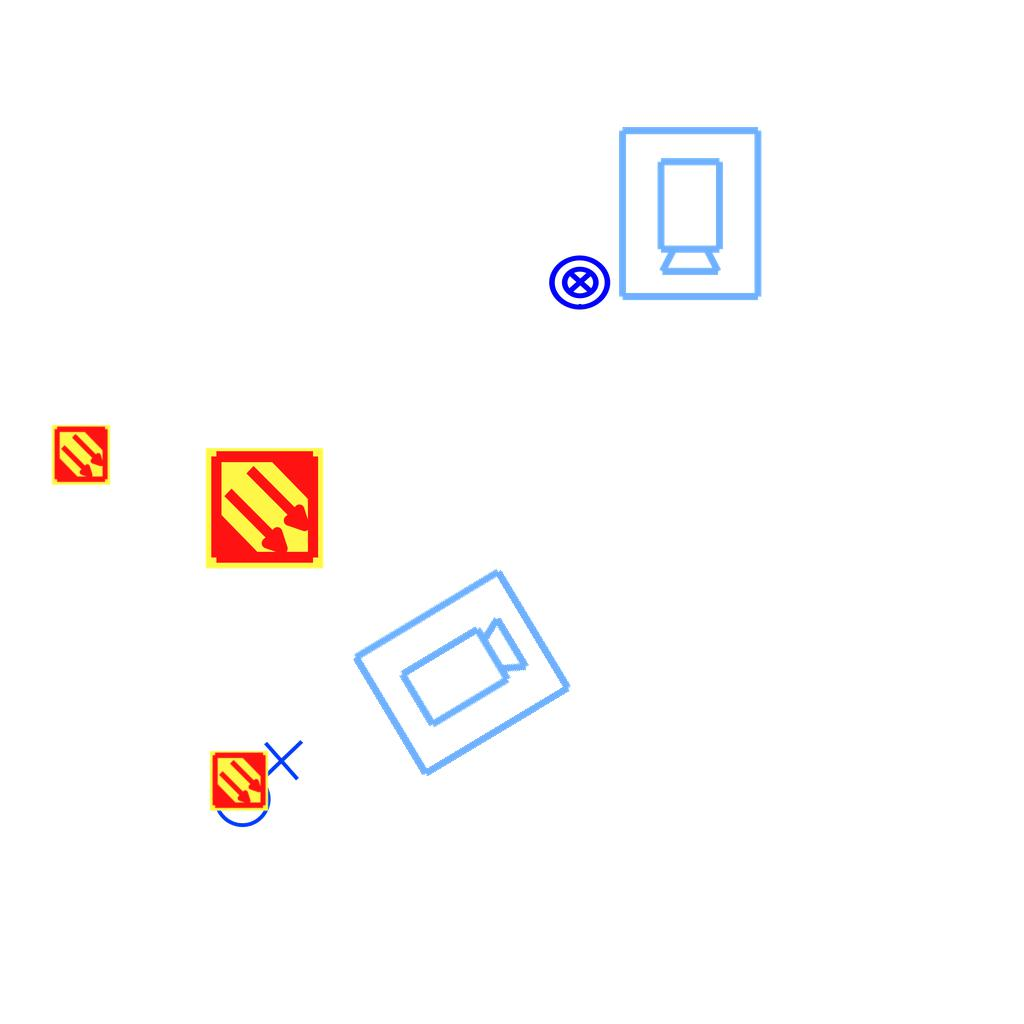ASR_Ansaugrauchmelder: (202, 446, 327, 571), (50, 424, 112, 486), (208, 750, 270, 812)
Elektroanschluss_allgemein_230V_Geraeteanschlussdose_230V: (205, 735, 304, 829)
KFO_Kamera_mit_Festobjektiv: (344, 561, 580, 787), (612, 122, 766, 304)
Taster_beleuchtet: (547, 249, 613, 315)
